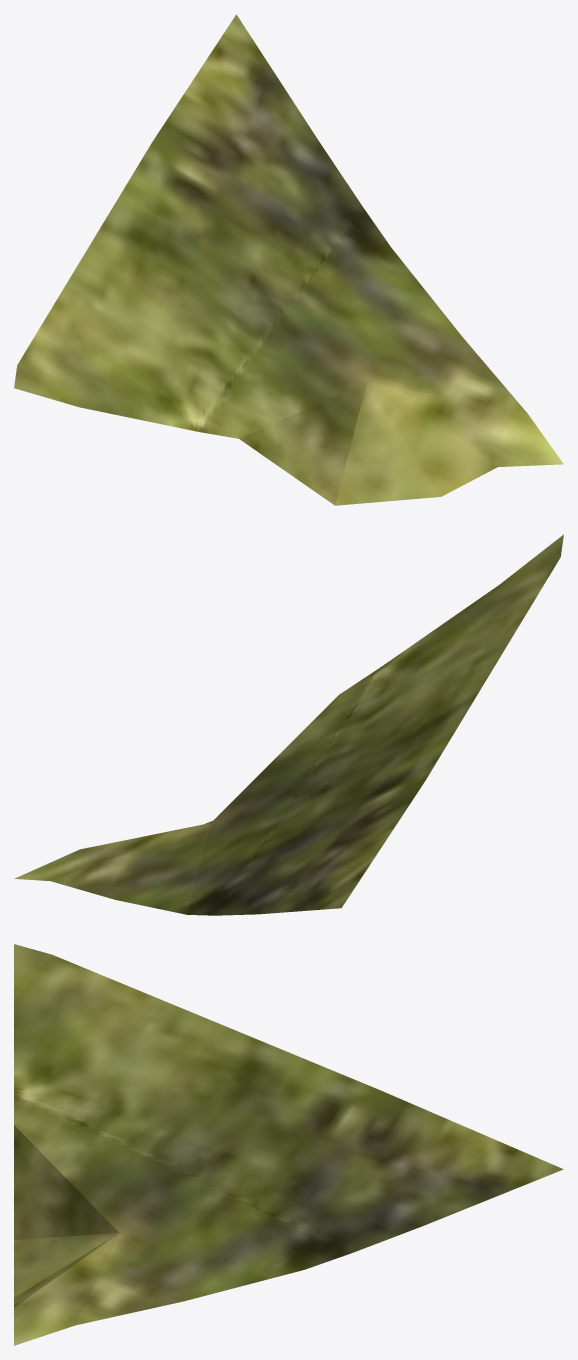
The picture shows the model from 3 angles, top to bottom: view 1: azimuth 30°, elevation 25°; view 2: azimuth 210°, elevation 25°; view 3: azimuth 270°, elevation 25°; orthographic projection. The views are drawn at different scales.
Bounding box in the file's own units: 0.7866 × 0.291 × 0.8114.
Materials: 1 (1 with a texture image).
